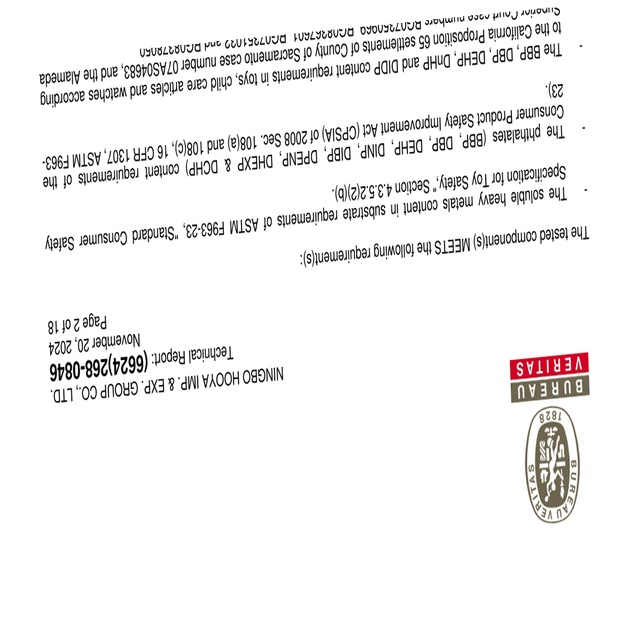bureau_veritas: (507, 350, 590, 526)
